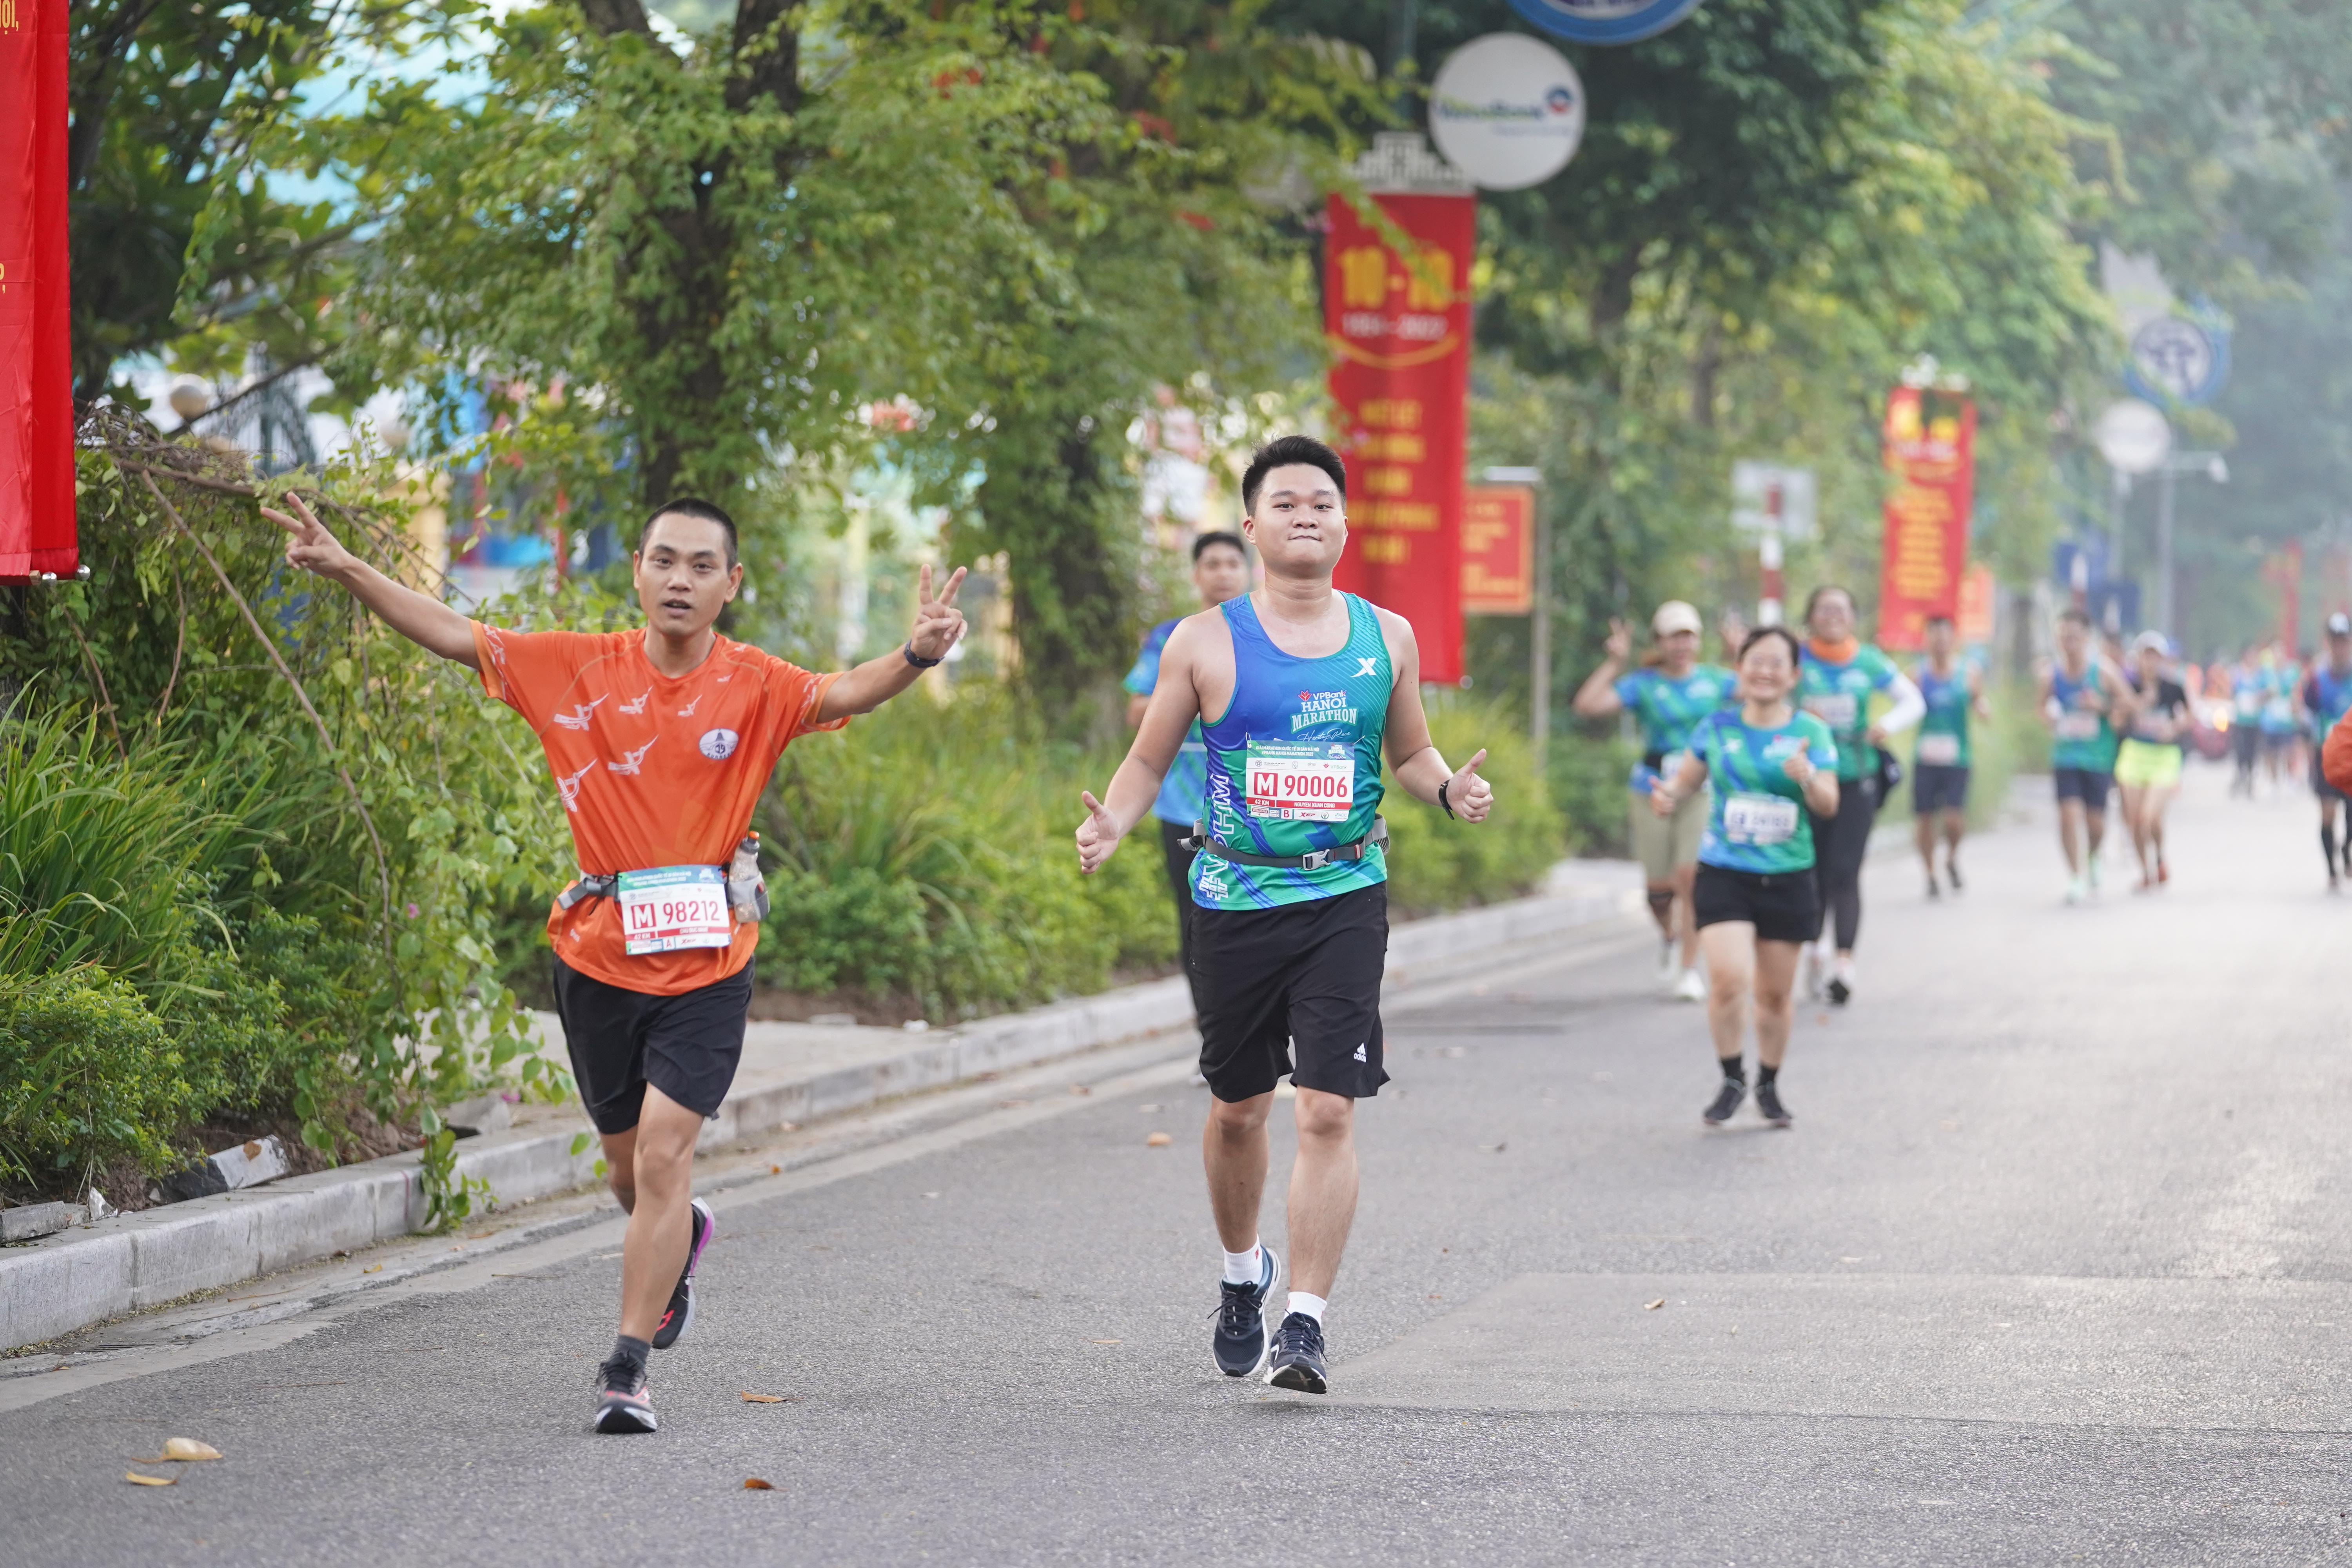bib: (618, 865, 732, 954), (1248, 739, 1355, 821), (1724, 791, 1799, 843)
